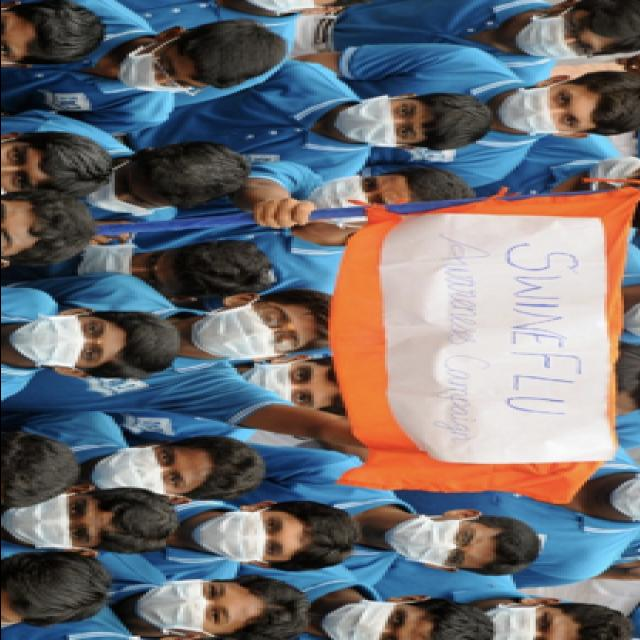with_mask: (190, 302, 304, 358), (134, 574, 239, 634), (293, 174, 398, 228), (3, 493, 99, 549), (328, 93, 423, 149), (91, 444, 196, 494), (12, 314, 116, 364), (191, 510, 293, 560), (386, 516, 486, 566), (230, 358, 324, 408), (501, 83, 588, 136), (114, 42, 202, 92), (322, 596, 418, 638), (82, 164, 160, 214), (514, 11, 600, 56), (486, 602, 564, 638)
